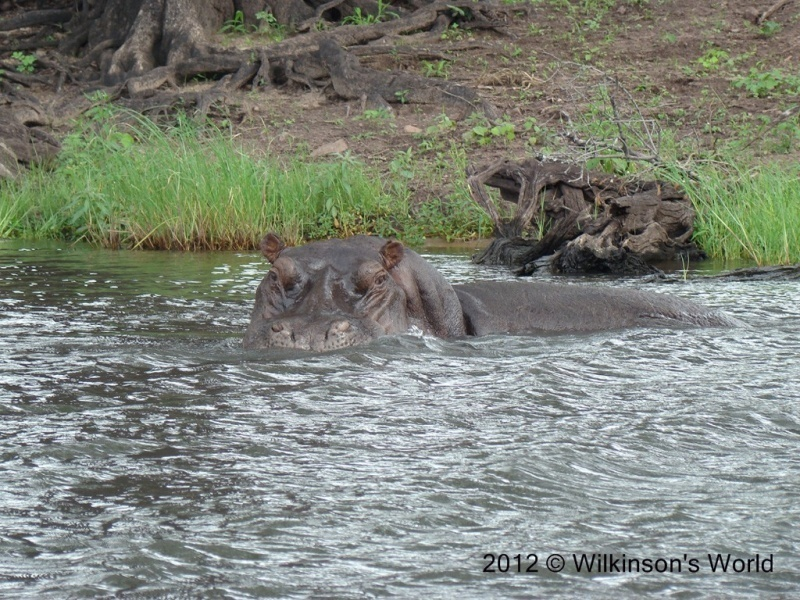hipopotamo: (224, 219, 772, 384)
